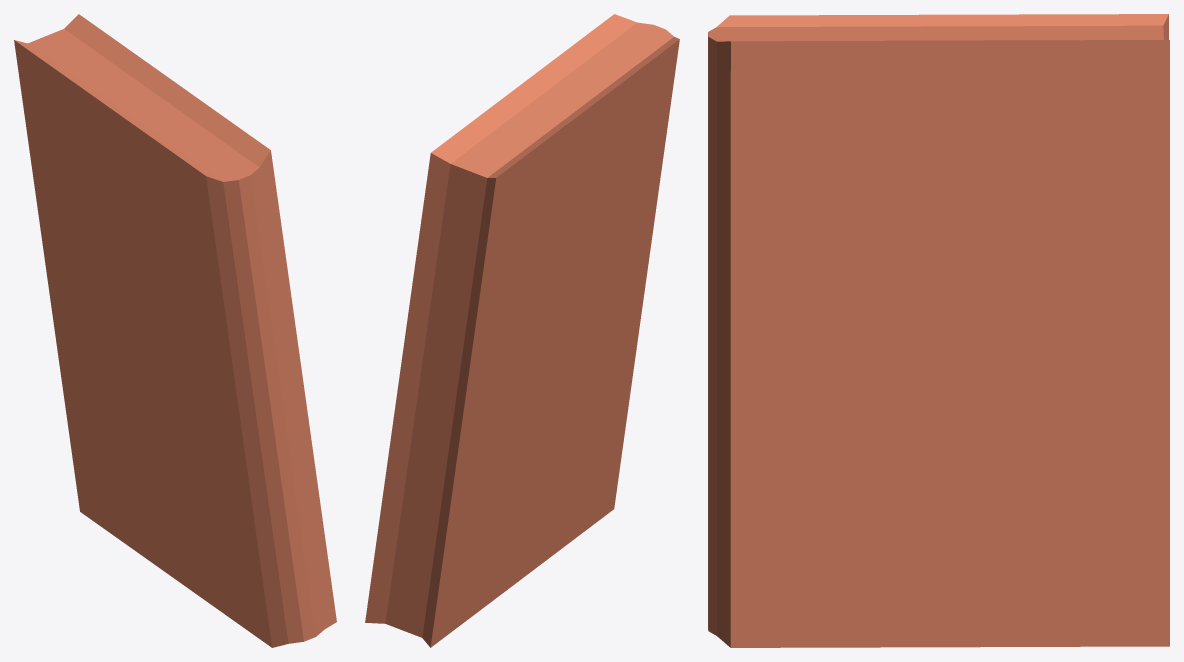
File: badbook.fbx
3 renders of one model, left to right at view 1: azimuth 30°, elevation 25°; view 2: azimuth 150°, elevation 25°; view 3: azimuth 270°, elevation 25°, orthographic. The views are drawn at different scales.
Parts seen in each view (by area): view 1: Cube; view 2: Cube; view 3: Cube.
Boxes of the visible parts, left/top/right/bottom form: Cube: left=14, top=14, right=336, bottom=647; Cube: left=365, top=14, right=679, bottom=647; Cube: left=708, top=14, right=1169, bottom=647.
Size of the model in its own units: 19.09 by 67.25 by 48.45.
